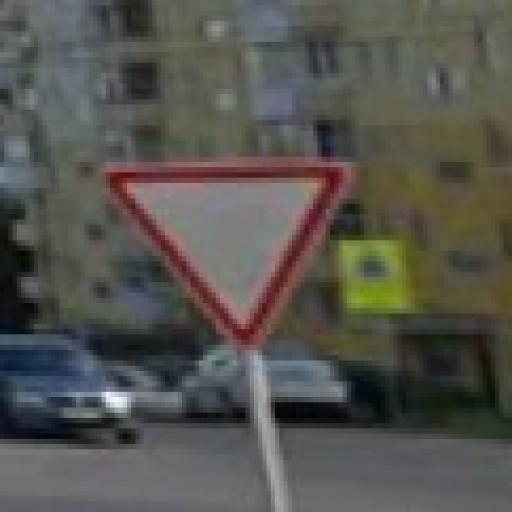traffic_sign: (99, 163, 357, 356)
